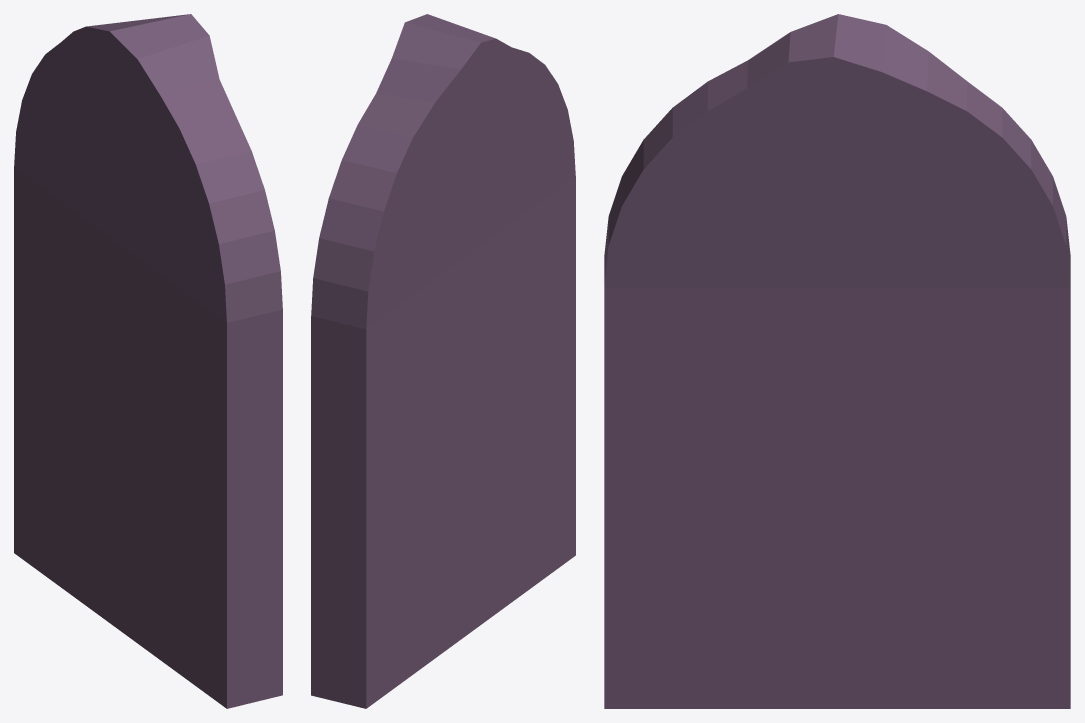
The model's file is hindernis_1.fbx.
The picture shows the model from 3 angles, left to right: view 1: azimuth 30°, elevation 25°; view 2: azimuth 150°, elevation 25°; view 3: azimuth 270°, elevation 25°; orthographic projection. The views are drawn at different scales.
Visible parts, largest first — view 1: Circle; view 2: Circle; view 3: Circle.
Boxes of the visible parts, x1,y1,x2,y2 form: Circle: (14, 14, 282, 708); Circle: (311, 14, 575, 708); Circle: (604, 14, 1070, 708).
Size of the model in its own units: 44.09 by 312 by 200.
